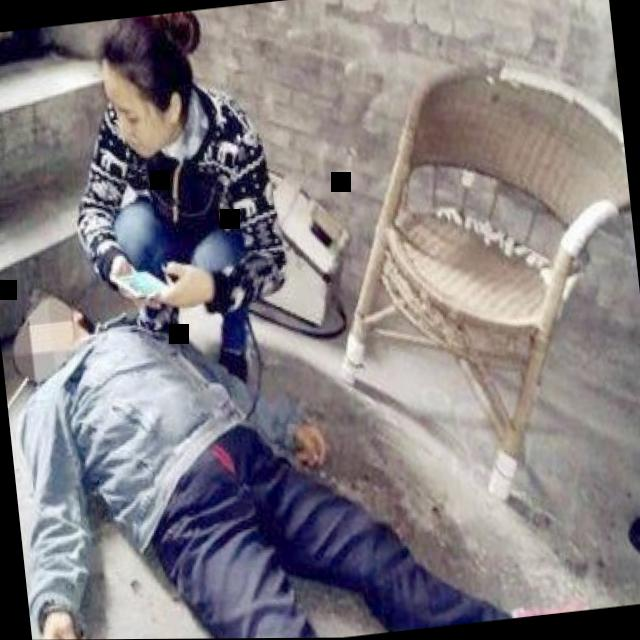Fall-Detected: (0, 182, 632, 640)
